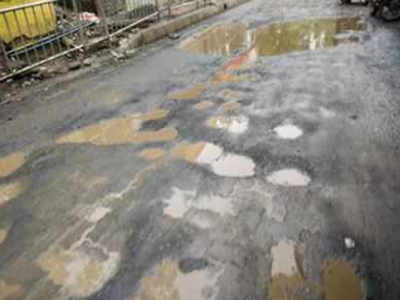pothole: (59, 94, 179, 165), (209, 11, 352, 67), (272, 230, 369, 299), (24, 234, 121, 294), (169, 138, 257, 192), (143, 254, 223, 299), (0, 136, 36, 203), (267, 157, 332, 192), (156, 84, 208, 118), (262, 111, 324, 139), (197, 73, 249, 92)
